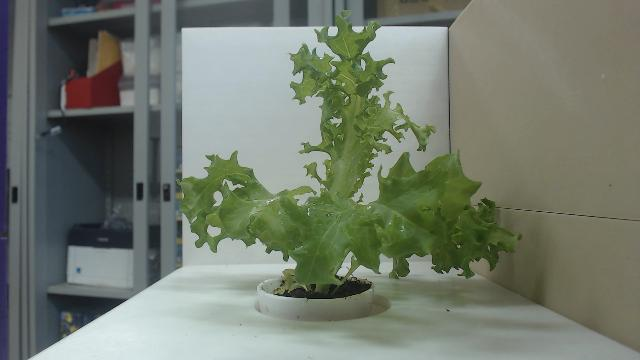Harvest Stage: (174, 8, 524, 296)
